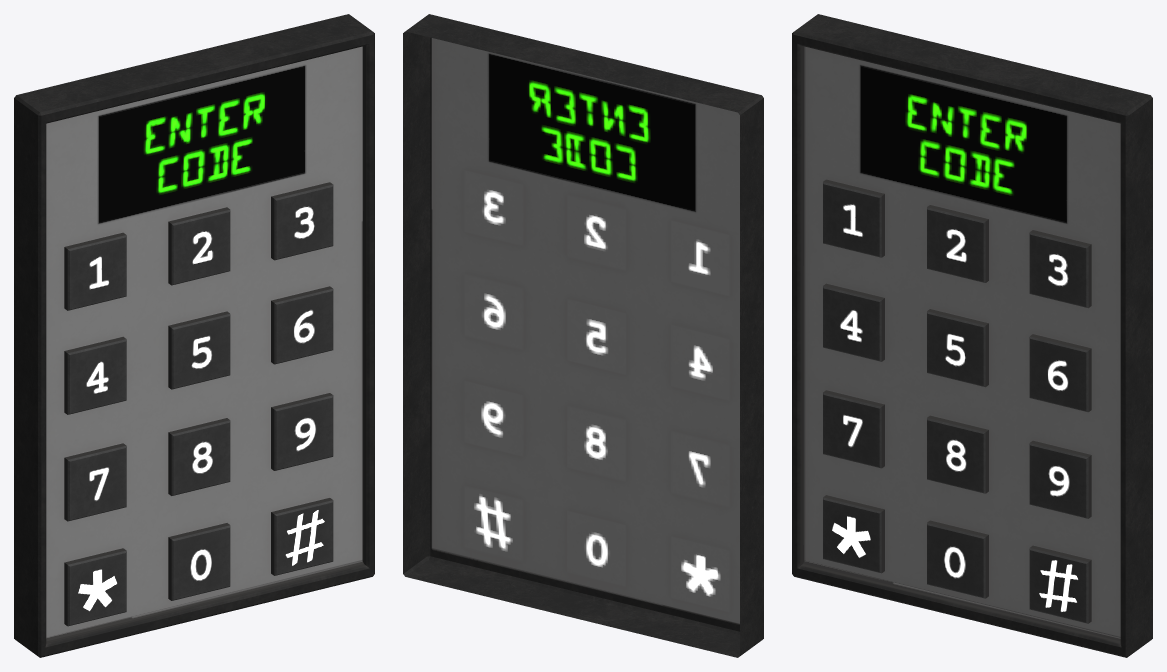
Rendered from PinPad.fbx.
3 renders of one model, left to right at view 1: azimuth 30°, elevation 25°; view 2: azimuth 150°, elevation 25°; view 3: azimuth 330°, elevation 25°, orthographic.
Parts seen in each view (by area): view 1: Object_2; view 2: Object_2; view 3: Object_2.
Boxes of the visible parts, left/top/right/bottom form: Object_2: left=14, top=14, right=374, bottom=657; Object_2: left=403, top=14, right=763, bottom=657; Object_2: left=792, top=14, right=1152, bottom=657.
Size of the model in its own units: 858 by 1327 by 110.
1 material, 1 textured.
